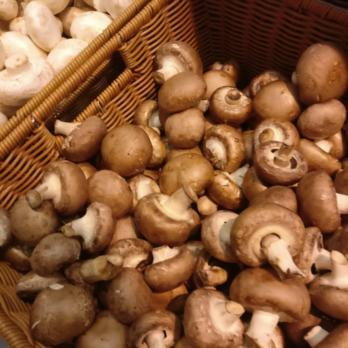Mushroom: (204, 39, 348, 348), (137, 29, 200, 348), (54, 112, 133, 348), (0, 179, 53, 260)
